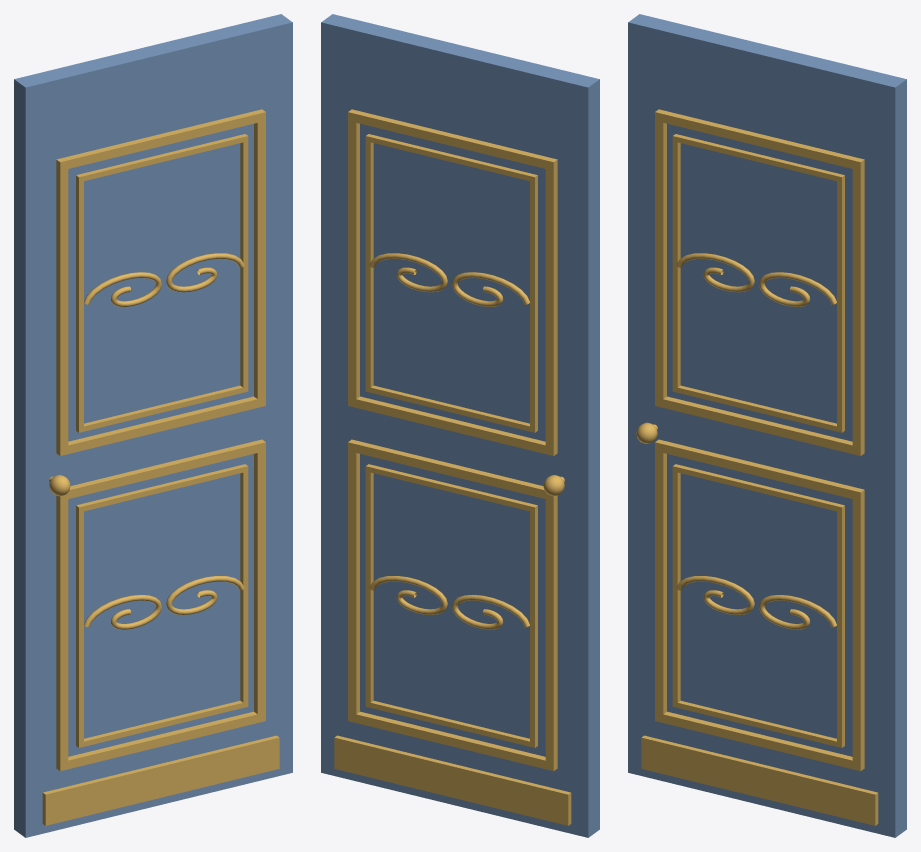
The model's file is KRM_DOOR_07_DOOR_HINGE___Wing_portal_RIGHT___B.fbx.
The picture shows the model from 3 angles, left to right: view 1: azimuth 30°, elevation 25°; view 2: azimuth 150°, elevation 25°; view 3: azimuth 330°, elevation 25°; orthographic projection.
Visible parts, largest first — view 1: KRM_DOOR_07_DOOR_HINGE___Wing_portal_RIGHT___B; view 2: KRM_DOOR_07_DOOR_HINGE___Wing_portal_RIGHT___B; view 3: KRM_DOOR_07_DOOR_HINGE___Wing_portal_RIGHT___B.
Boxes of the visible parts, x1,y1,x2,y2 form: KRM_DOOR_07_DOOR_HINGE___Wing_portal_RIGHT___B: (14, 14, 292, 837); KRM_DOOR_07_DOOR_HINGE___Wing_portal_RIGHT___B: (321, 14, 599, 837); KRM_DOOR_07_DOOR_HINGE___Wing_portal_RIGHT___B: (628, 14, 906, 837).
Size of the model in its own units: 161 by 432 by 40.
1 material, 1 textured.
